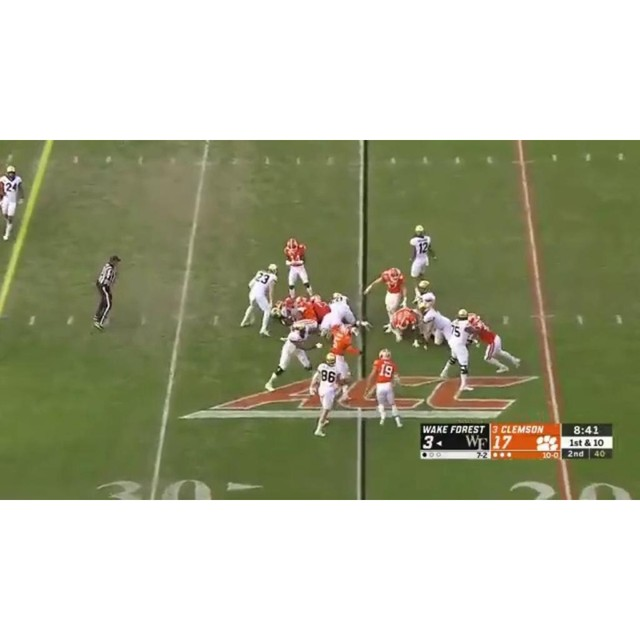american-football-player: (265, 321, 317, 391), (467, 312, 521, 373), (309, 352, 346, 438), (240, 264, 280, 338), (365, 349, 402, 428), (362, 268, 406, 333), (440, 309, 476, 387), (327, 321, 362, 387), (0, 166, 24, 240), (284, 238, 313, 299), (418, 302, 452, 350), (409, 226, 434, 283), (390, 306, 422, 346), (412, 280, 437, 311)
referee: (92, 254, 120, 331)
